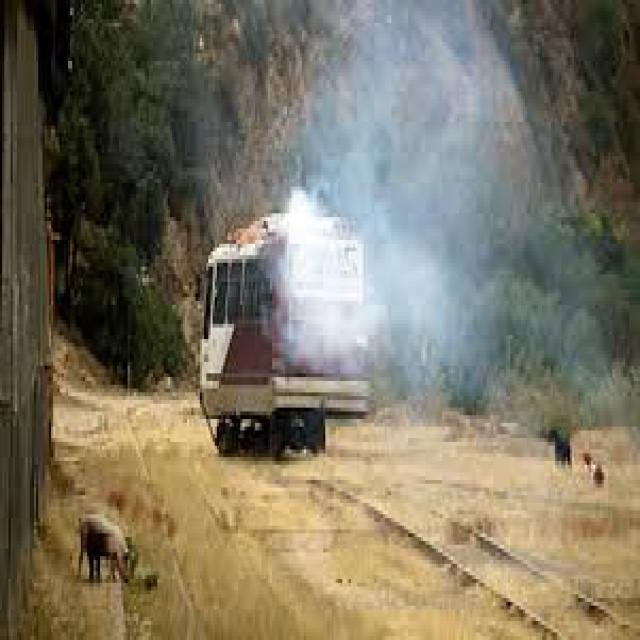smoke: (259, 99, 602, 377)
